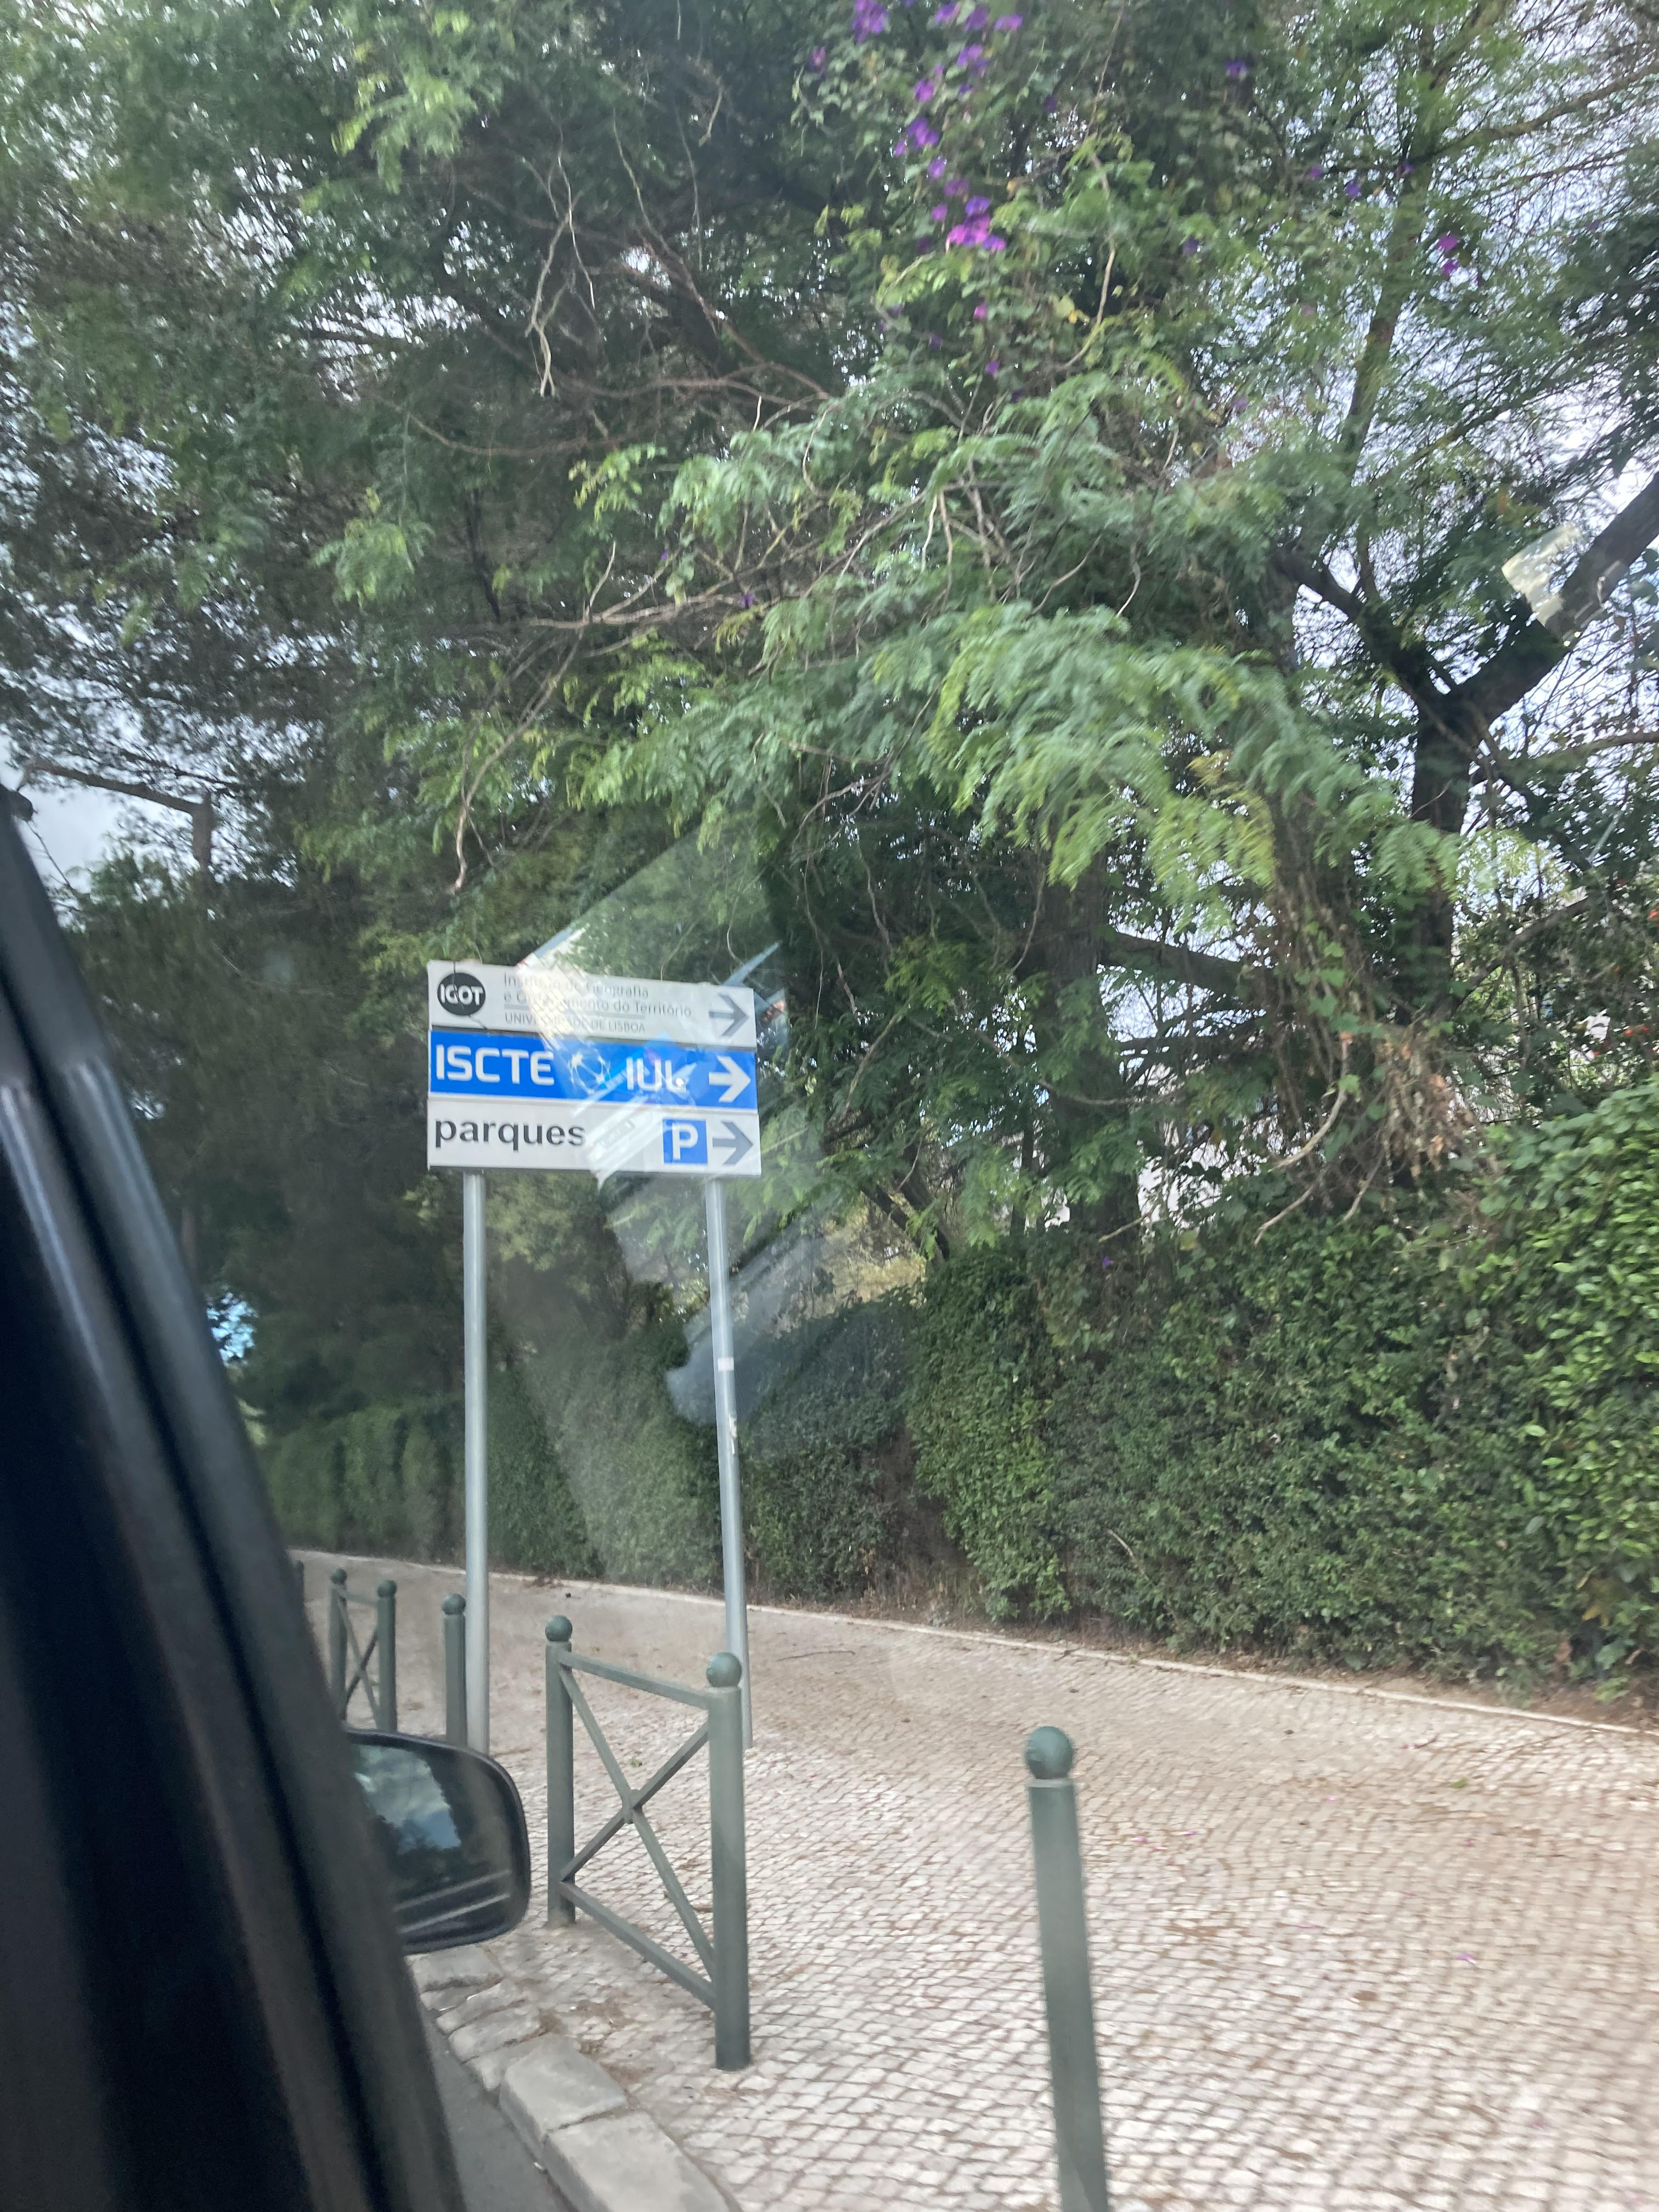Indicacao de ambito urbano: (430, 1092, 763, 1170), (429, 1029, 760, 1108), (427, 963, 762, 1033)
